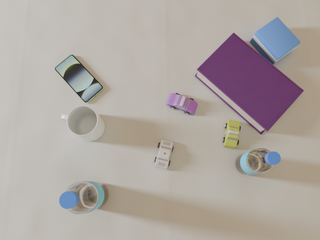book: (195, 33, 304, 134)
bottle: (59, 181, 108, 214), (236, 149, 281, 175)
box: (250, 17, 301, 65)
cup: (61, 106, 105, 141)
phone: (55, 55, 103, 103)
toy_car: (166, 93, 197, 115), (154, 139, 174, 170), (223, 120, 241, 149)
